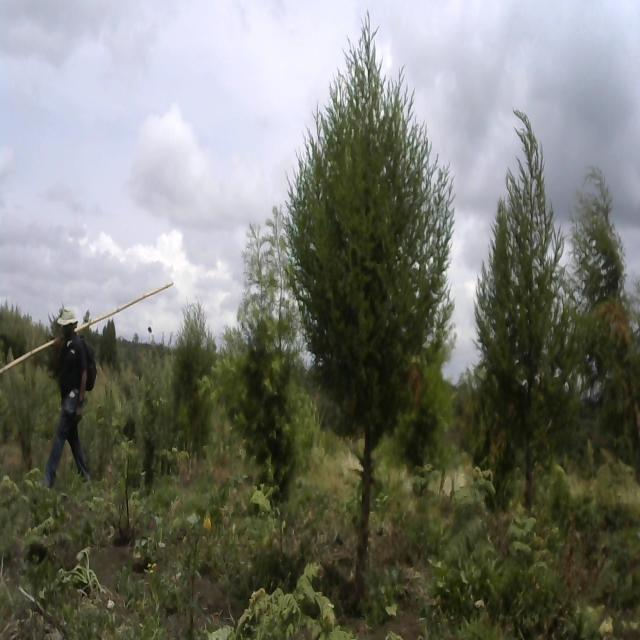Juniperus procesera: (284, 7, 456, 596), (474, 105, 565, 524), (174, 297, 214, 432)
Podocarpus falcatus: (218, 205, 304, 518)
